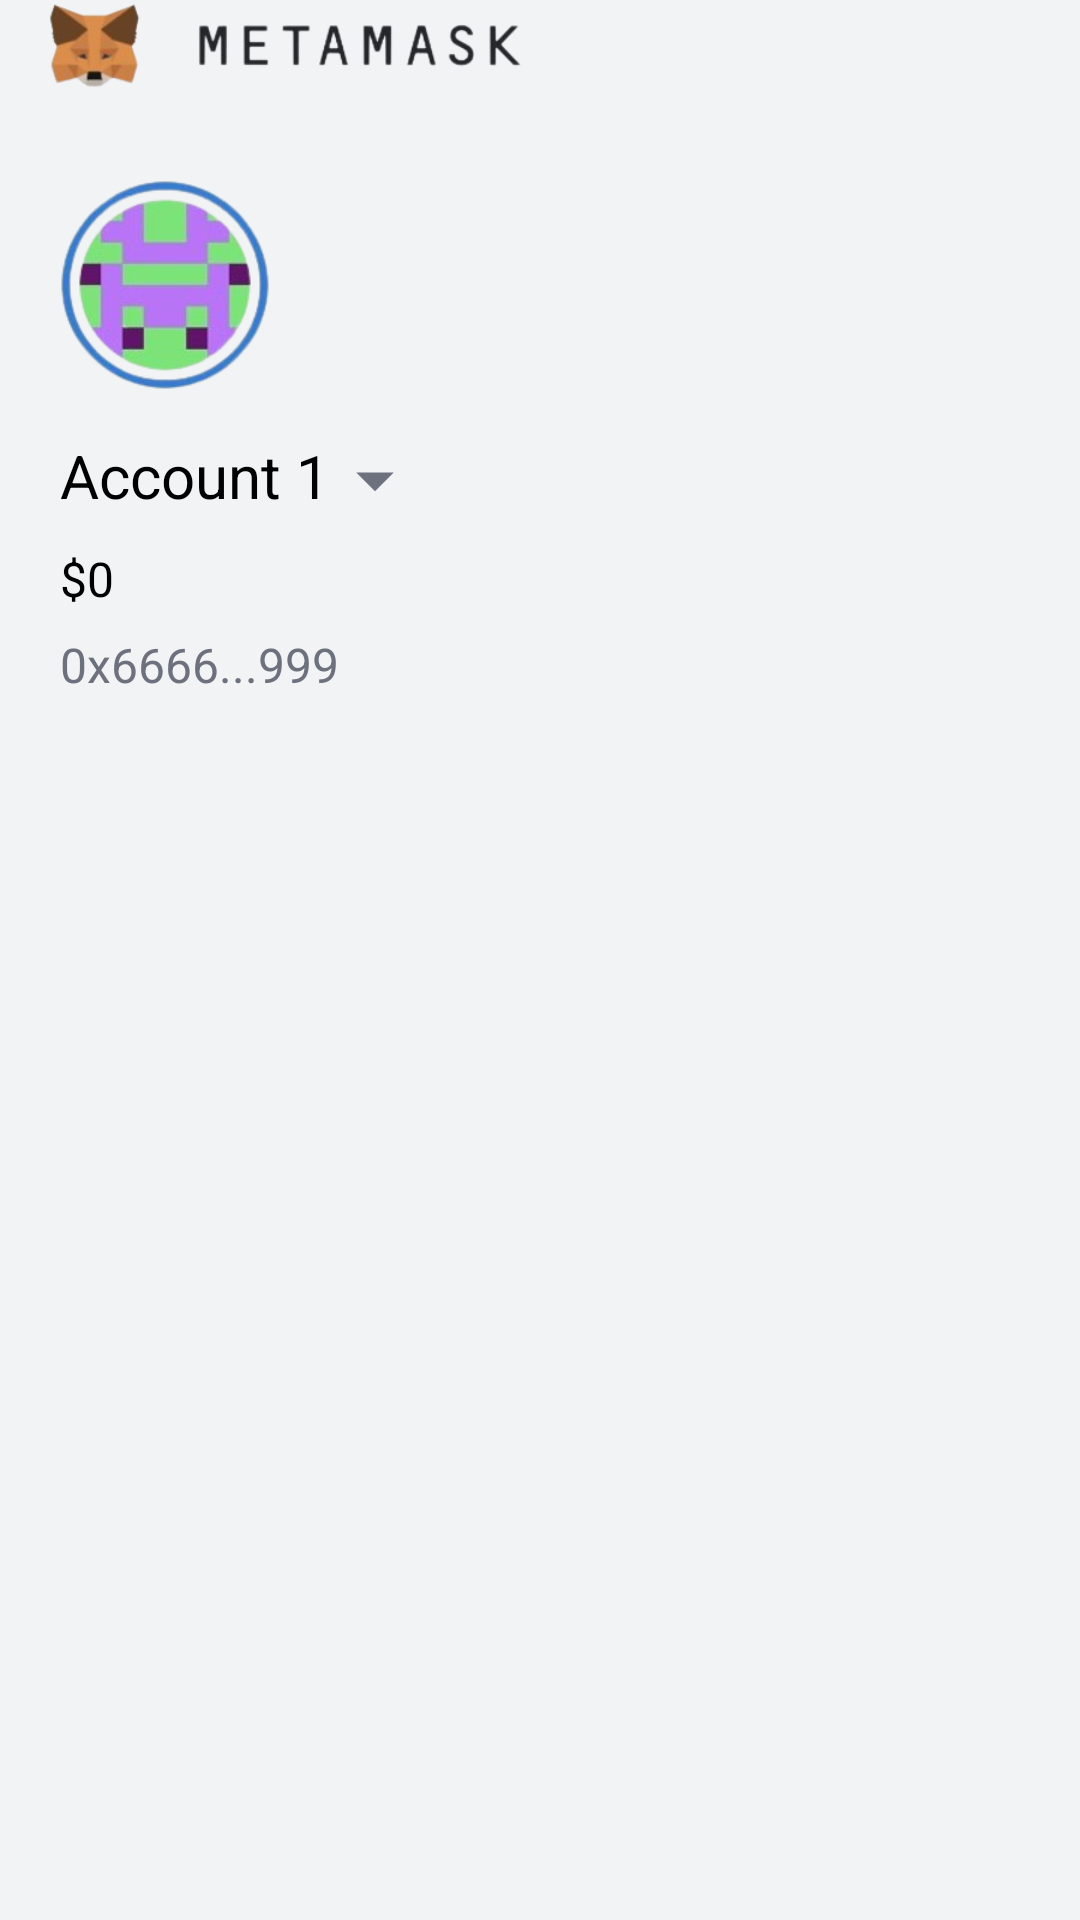

Named icons in this screenshot (1080×1920) and their centers, [x,y]:
down: [375,481]
